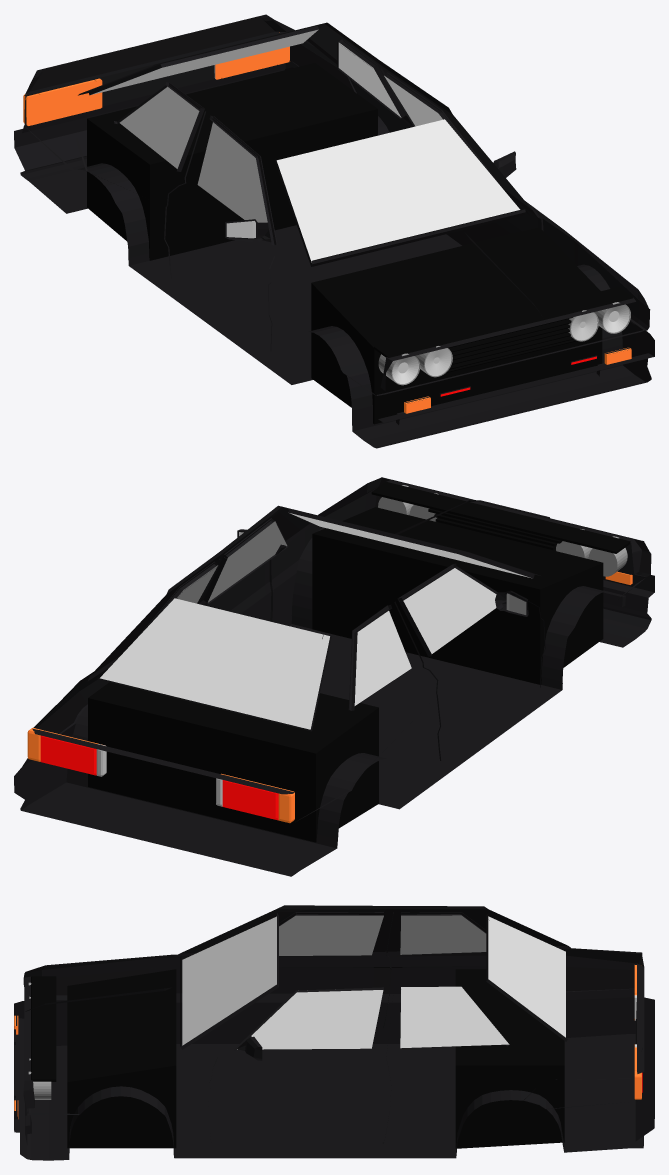
File: Yanbo_C_Sedan (1).fbx
3 renders of one model, top to bottom at view 1: azimuth 30°, elevation 25°; view 2: azimuth 150°, elevation 25°; view 3: azimuth 270°, elevation 25°, orthographic. The views are drawn at different scales.
Parts seen in each view (by area): view 1: Cube.004, Cube.001, Cube.002, front_grill.007, Cube.003, Cube, Cylinder, Cylinder.002, Cylinder.001, Cylinder.003, Cube.006; view 2: Cube.004, Cube.002, Cube.001, front_grill.007, Cube.003, Cube, Cylinder; view 3: Cube.004, Cube.001, Cube.002, front_grill.007.
Boxes of the visible parts, <box> form: Cube.004: <box>14,14,654,448</box>; Cube.001: <box>311,227,602,424</box>; Cube.002: <box>87,63,377,260</box>; front_grill.007: <box>374,287,632,372</box>; Cube.003: <box>23,78,102,125</box>; Cube: <box>214,32,289,79</box>; Cylinder: <box>378,353,420,385</box>; Cylinder.002: <box>415,346,452,377</box>; Cylinder.001: <box>594,302,630,333</box>; Cylinder.003: <box>568,310,598,341</box>; Cube.006: <box>404,347,631,413</box>; Cube.004: <box>14,477,654,876</box>; Cube.002: <box>88,682,378,842</box>; Cube.001: <box>312,507,603,684</box>; front_grill.007: <box>371,482,630,553</box>; Cube.003: <box>216,773,294,823</box>; Cube: <box>27,728,106,776</box>; Cylinder: <box>589,536,627,576</box>; Cube.004: <box>14,905,654,1160</box>; Cube.001: <box>67,969,176,1148</box>; Cube.002: <box>455,969,564,1148</box>; front_grill.007: <box>31,976,56,1081</box>.
Bounding box in the file's own units: 3.75 × 2.26 × 8.3.
